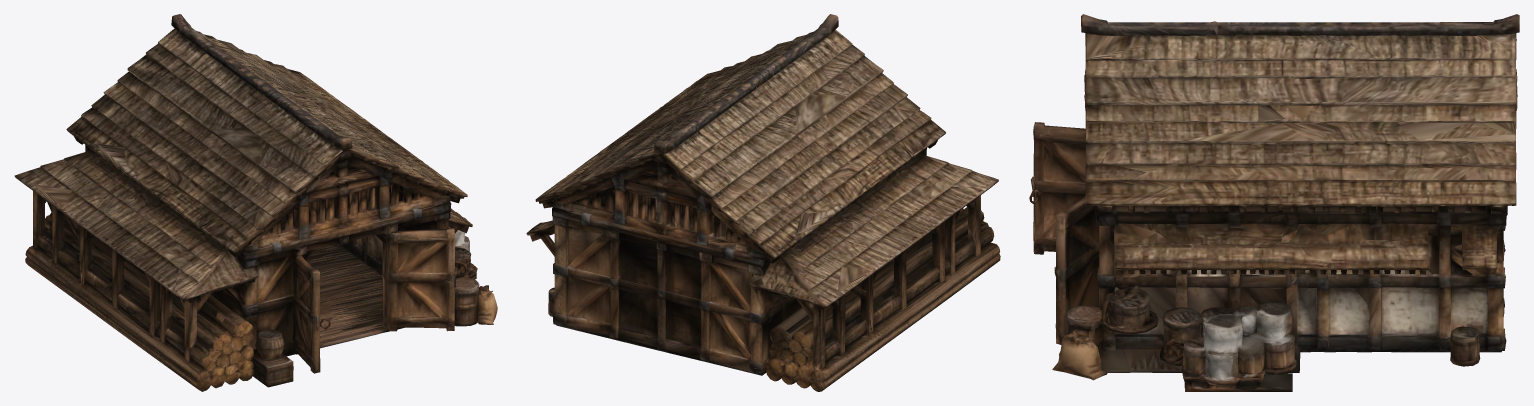
3 views of the same model, side by side, from view 1: azimuth 30°, elevation 25°; view 2: azimuth 150°, elevation 25°; view 3: azimuth 270°, elevation 25° (orthographic). The views are drawn at different scales.
Visible parts, largest first — view 1: node_0; view 2: node_0; view 3: node_0.
Boxes of the visible parts, x1,y1,x2,y2 form: node_0: (14, 14, 497, 391); node_0: (526, 14, 1000, 391); node_0: (1029, 14, 1519, 391).
Size of the model in its own units: 0.807 by 0.4815 by 0.7882.
Materials: 1 (1 with a texture image).
